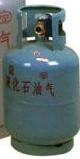cylinder: (1, 1, 80, 159)
